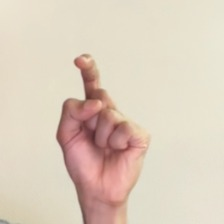X: (39, 41, 160, 214)
